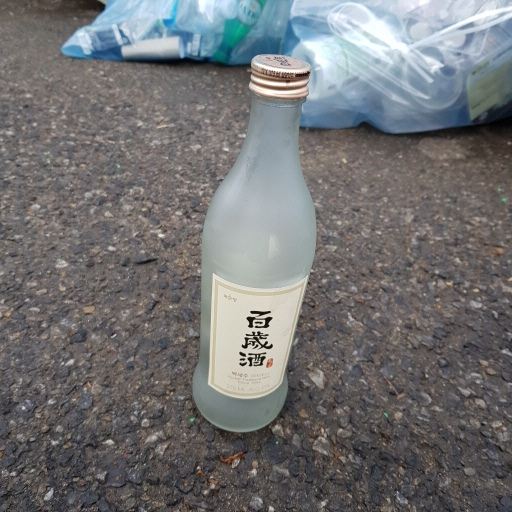Glass_0: (188, 53, 318, 437)
